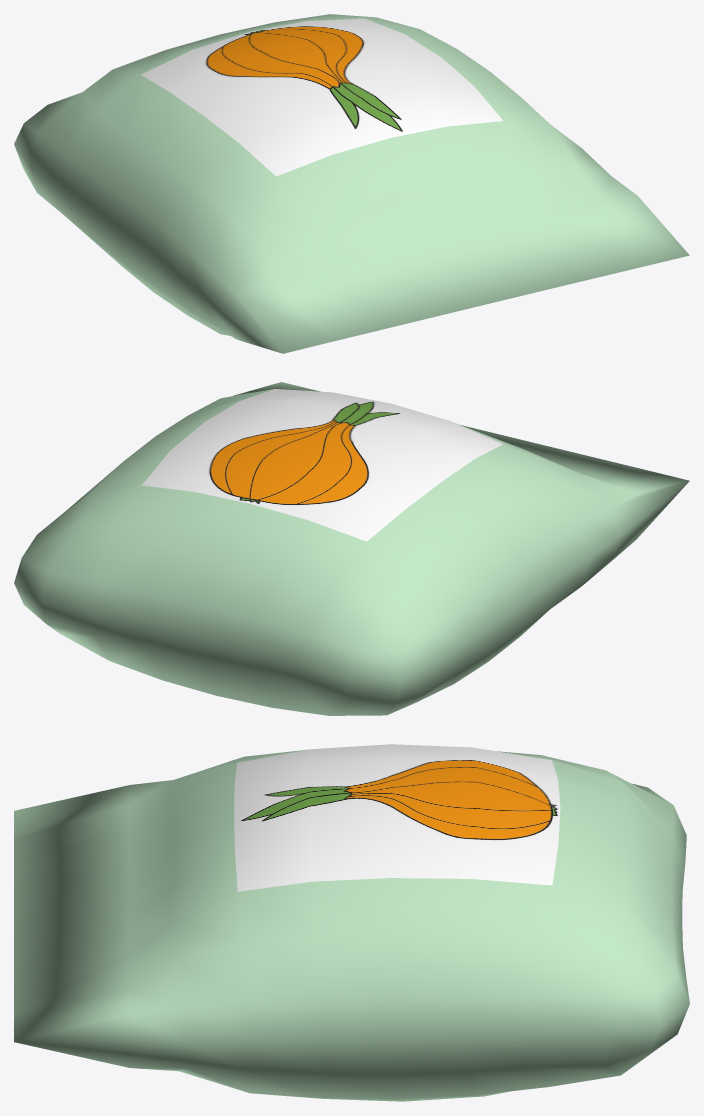
Rendered from Congelado cebolla.fbx.
3 views of the same model, one above another, from view 1: azimuth 30°, elevation 25°; view 2: azimuth 150°, elevation 25°; view 3: azimuth 270°, elevation 25° (orthographic). The views are drawn at different scales.
Visible parts, largest first — view 1: PAQUETE DE cebolla congelada; view 2: PAQUETE DE cebolla congelada; view 3: PAQUETE DE cebolla congelada.
Part boxes in pixels (<box>): PAQUETE DE cebolla congelada: <box>14,14,689,353</box>; PAQUETE DE cebolla congelada: <box>14,382,689,715</box>; PAQUETE DE cebolla congelada: <box>14,744,689,1101</box>.
Size of the model in its own units: 23.45 by 12.34 by 28.37.
Materials: 2 (1 with a texture image).
